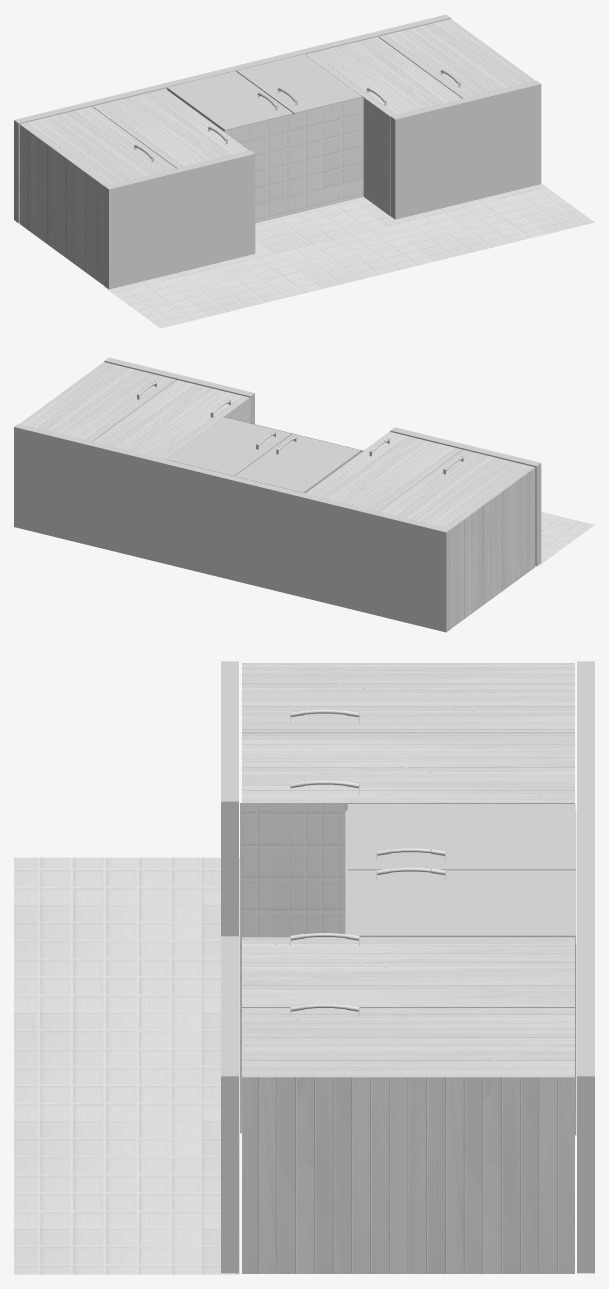
Rendered from Kitchen_cabinet.FBX.
3 renders of one model, top to bottom at view 1: azimuth 30°, elevation 25°; view 2: azimuth 150°, elevation 25°; view 3: azimuth 270°, elevation 25°, orthographic. The views are drawn at different scales.
Visible parts, largest first — view 1: Plane007, Box033, Box039, Box037, Box047, Box032, Box052; view 2: Box032, Box039, Box037, Box047, Box033, Plane007, Box052; view 3: Box037, Plane007, Box039, Box047, Box033, Box032, Box052, Box049.
Part boxes in pixels (x1,y1,x2,y2): Plane007: (103,97,594,328); Box033: (104,80,541,289); Box039: (19,88,249,285); Box037: (305,19,535,215); Box047: (167,54,362,131); Box032: (14,14,450,223); Box052: (134,70,459,162); Box032: (14,423,450,632); Box039: (306,432,535,628); Box037: (19,362,249,459); Box047: (166,417,360,493); Box033: (104,357,541,566); Plane007: (224,397,594,566); Box052: (138,382,463,474); Box037: (242,937,574,1273); Plane007: (14,803,344,1274); Box039: (242,663,574,933); Box047: (347,804,575,943); Box033: (221,661,238,1273); Box032: (577,661,594,1273); Box052: (290,709,445,1011); Box049: (345,810,576,1135).
Bounding box in the file's own units: 191 × 45.24 × 113.
Materials: 2 (2 with a texture image).
